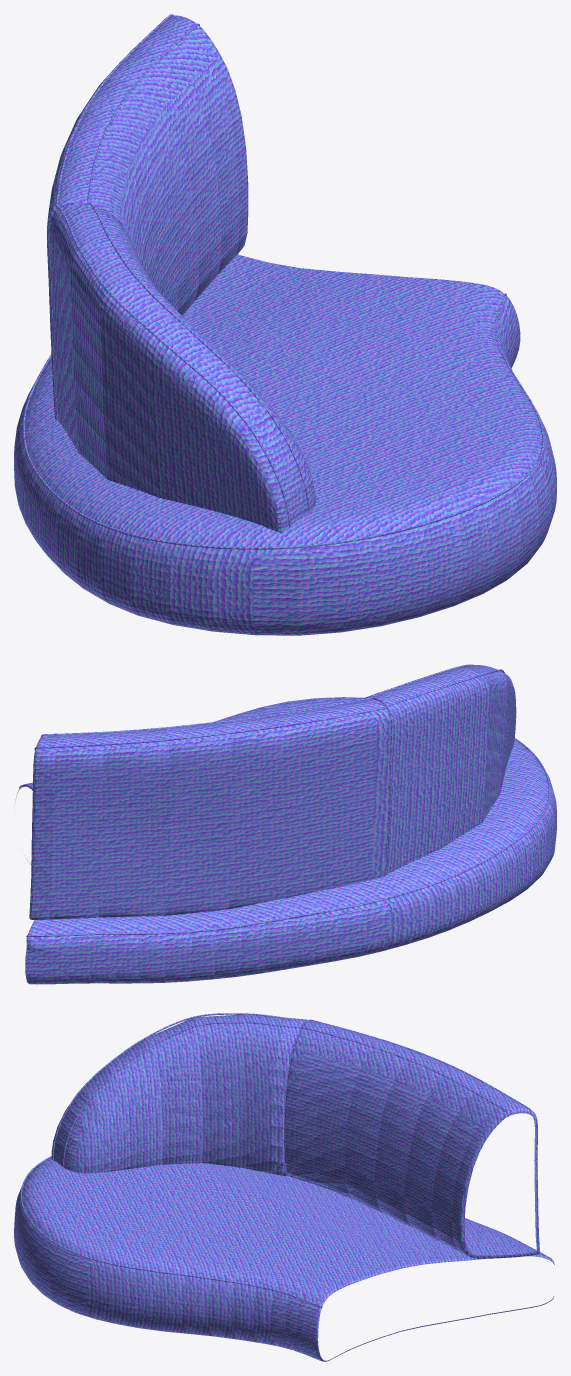
The model's file is levante_leg_longchair_mirror.gltf.
3 views of the same model, one above another, from view 1: azimuth 30°, elevation 25°; view 2: azimuth 150°, elevation 25°; view 3: azimuth 270°, elevation 25° (orthographic). The views are drawn at different scales.
Visible parts, largest first — view 1: longchair001; view 2: longchair001; view 3: longchair001.
Boxes of the visible parts, x1,y1,x2,y2 form: longchair001: (14,14,556,635); longchair001: (15,664,556,984); longchair001: (14,1013,554,1361).
Size of the model in its own units: 1.32 by 0.7136 by 1.68.
Materials: 1 (1 with a texture image).
